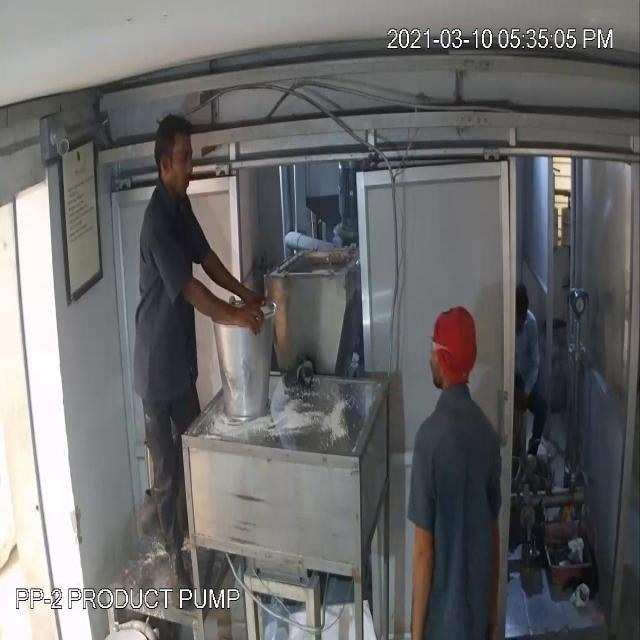No_Gloves: (172, 265, 276, 347)
